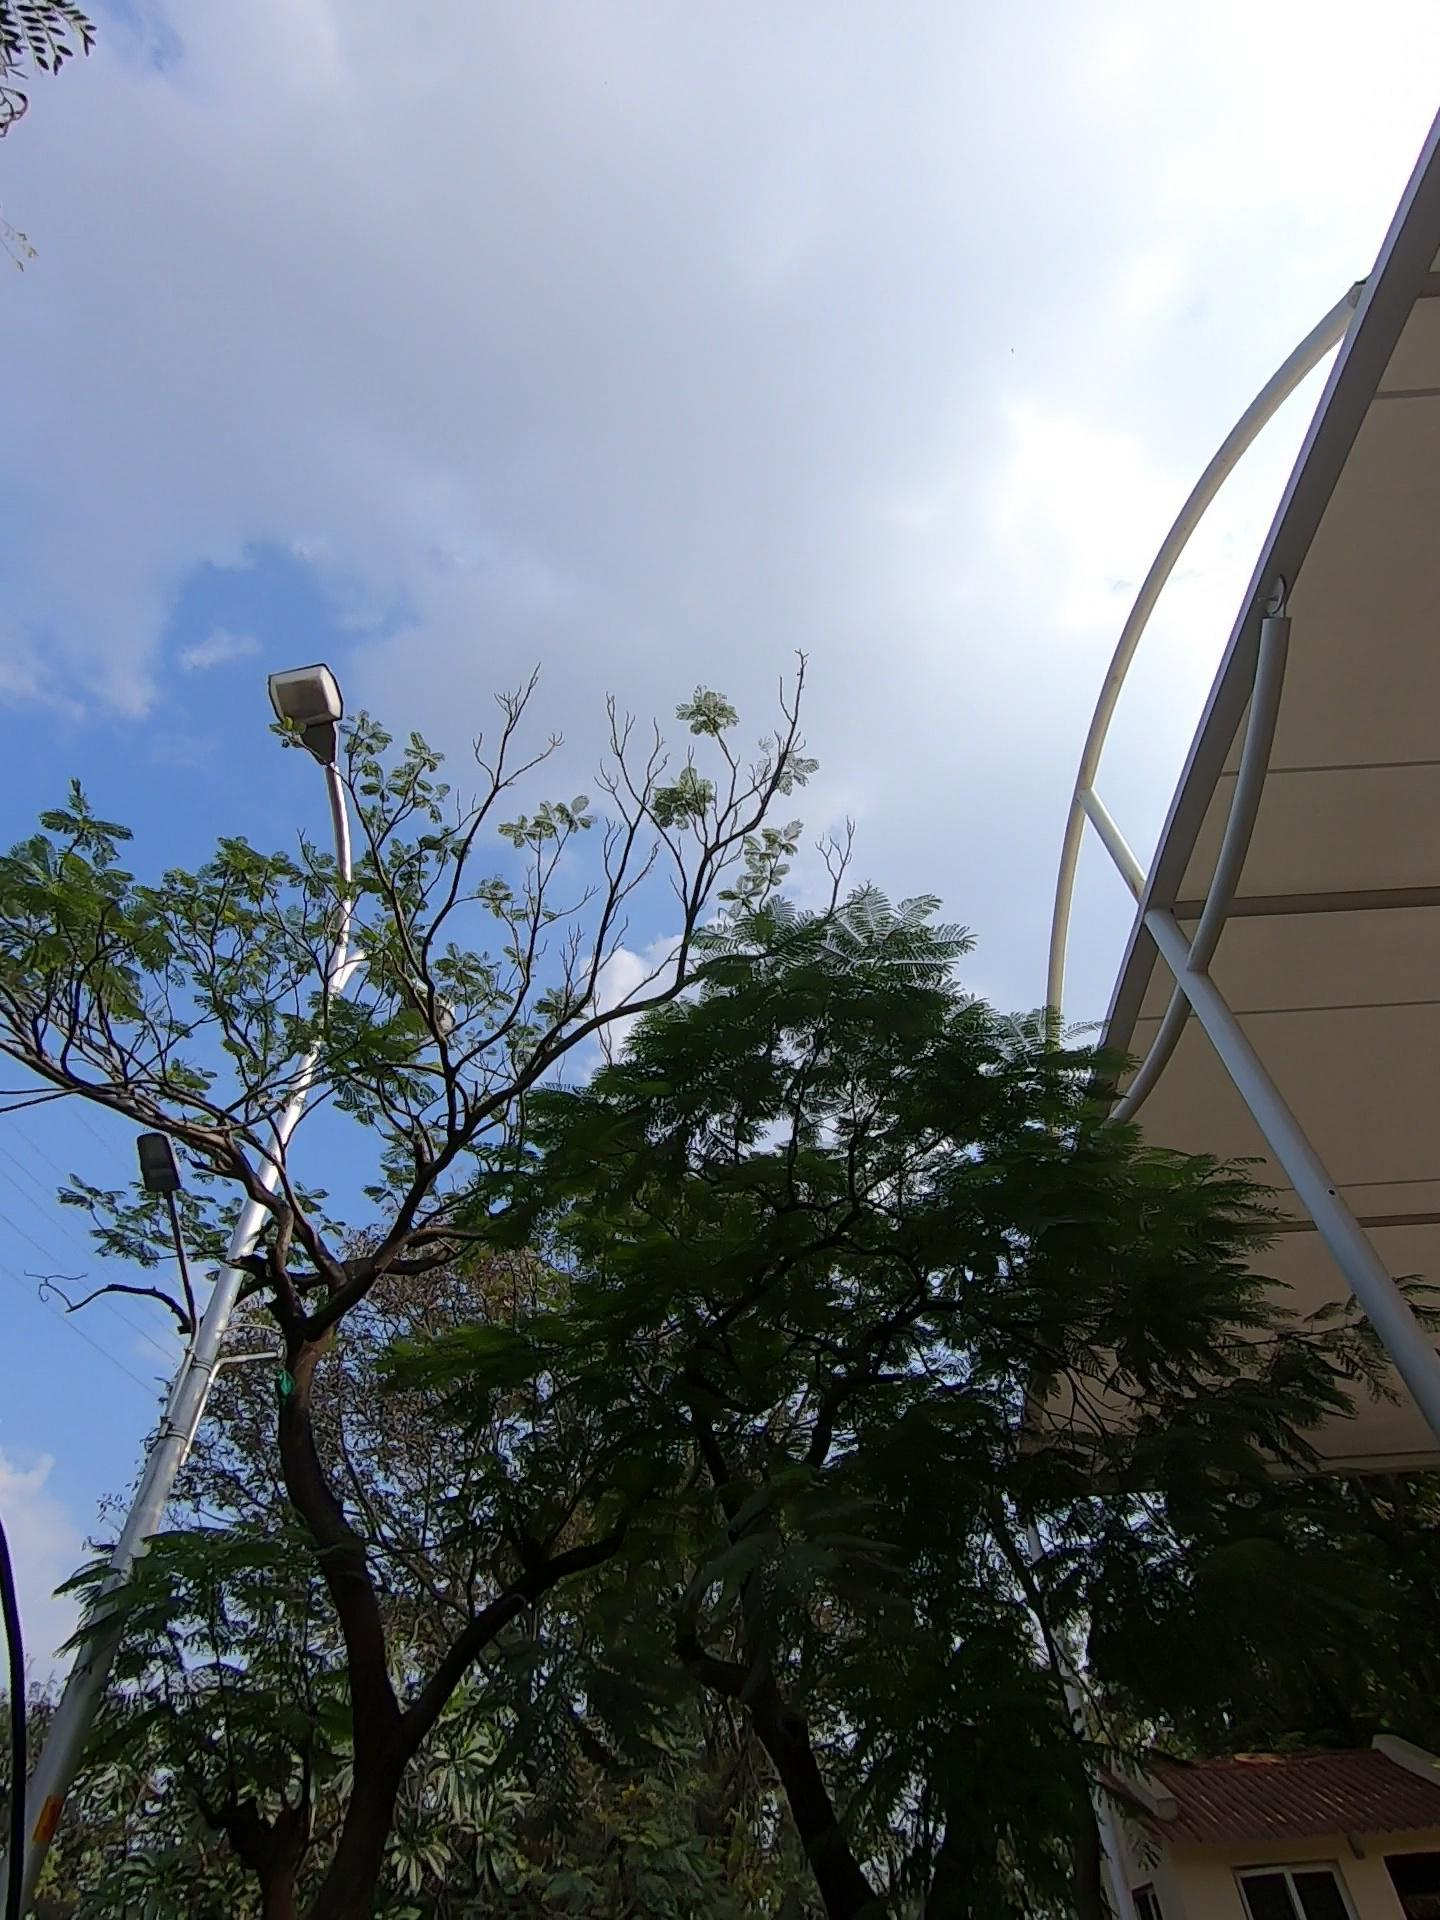off: (230, 621, 496, 1052)
